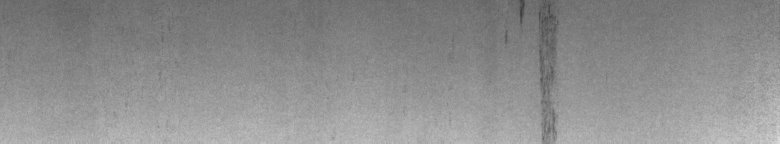hd: (505, 4, 560, 136)
